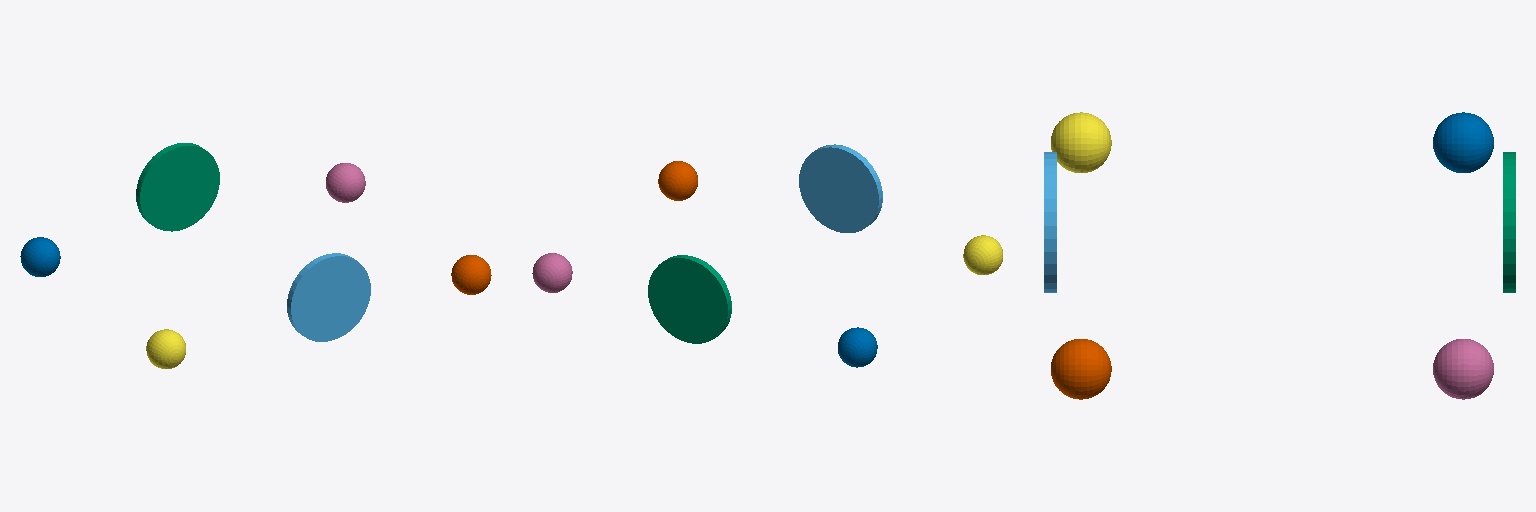
robot.urdf — guiabot:
<?xml version="1.0"?>
<robot name="guiabot" 
  xmlns:xacro="http://ros.org/wiki/xacro">


<gazebo>
  <plugin name="gazebo_ros_control" filename="libgazebo_ros_control.so">
    <robotNamespace>/guiabot</robotNamespace>
  </plugin>
</gazebo>


<link name="base_link" >

    <visual>  
      <origin xyz="0 0 0.024" rpy="0 0 0"/>
      <geometry>
        <mesh filename="package://guiabot_description/meshes/guaibot.dae" scale="1 1 1"/>
      </geometry>
    </visual>
    <collision>
      <geometry>
        <mesh filename="package://guiabot_description/meshes/guaibot.dae" scale="1 1 1"/>
      </geometry>
    </collision>
  </link>


<link name="left_diff_wheel">
    <inertial>
      <mass value="50"/>
      <!--origin xyz="0 0 -0.0525" rpy="0 0 0"/-->
      <origin rpy="0 0 0" xyz="0 0 0"/>
      <inertia ixx="1" ixy="0" ixz="0" iyy="1" iyz="0" izz="1"/>
    </inertial>
    <visual>
      <origin xyz="0 0 0" rpy="0 0 0"/>
      <geometry>
        <cylinder length="0.008" radius="0.046"/>
      </geometry>
    </visual>
    <collision>
      <origin xyz="0 0 0" rpy="0 0 0"/>
      <geometry>
        <cylinder length="0.008" radius="0.046"/>
      </geometry>
    </collision>
  </link>
 

  <joint name="left_diff_wheel_base"  type="continuous">
    <axis xyz="0 0 -1"/>
    <parent link="base_link"/>
    <child link="left_diff_wheel"/>
    <origin xyz=".295 .095  0.024" rpy="1.5708 0 0"/>
  </joint>
  <gazebo reference="left_diff_wheel">
    <material>Gazebo/Black</material>
    <turnGravityOff>false</turnGravityOff>
  </gazebo>

  <link name="right_diff_wheel">
    <inertial>
      <mass value="50"/>
      <!--origin xyz="0 0 -0.0525" rpy="0 0 0"/-->
      <origin rpy="0 0 0" xyz="0 0 0.0"/>
      <inertia ixx="1" ixy="0" ixz="0" iyy="1" iyz="0" izz="1"/>
    </inertial>
    <visual>
      <origin xyz="0 0 0" rpy="0 0 0"/>
      <geometry>
        <cylinder length="0.008" radius="0.046"/>
      </geometry>
    </visual>
    <collision>
      <origin xyz="0 0 0" rpy="0 0 0"/>
      <geometry>
        <cylinder length="0.008" radius="0.046"/>
      </geometry>
    </collision>
  </link>
  
  <joint name="right_diff_wheel_base"  type="continuous">
    <axis xyz="0 0 -1"/>
   <parent link="base_link"/>
    <child link="right_diff_wheel"/>
    <origin xyz=".295 .395  0.024" rpy="-1.5708 0 0"/>
  </joint>

    <gazebo reference="right_diff_wheel">
    <material>Gazebo/Black</material>
    <turnGravityOff>false</turnGravityOff>
  </gazebo>

  <link name="stabilising_wheel_1">
    <inertial>
      <mass value="1"/>
      <!--origin xyz="0 0 -0.0525" rpy="0 0 0"/-->
      <origin rpy="0 0 0" xyz="0 0 0.0"/>
      <inertia ixx="1" ixy="0" ixz="0" iyy="1" iyz="0" izz="1"/>
    </inertial>
    <visual>
      <origin xyz="0 0 0" rpy="0 0 0"/>
      <geometry>
        <sphere radius="0.020"/>
      </geometry>
    </visual>
    <collision>
      <origin xyz="0 0 0" rpy="0 0 0"/>
      <geometry>
        <sphere radius="0.020"/>
      </geometry>
    </collision>
  </link>
  
  <joint name="stabilising_wheel_base_1" type="continuous">
    <parent link="base_link"/>
    <child link="stabilising_wheel_1"/>
    <origin xyz="0.120 .115 0" rpy="-1.5708 0 0"/>
  </joint>

  <gazebo reference="stabilising_wheel_1">
    <material>Gazebo/Black</material>
    <turnGravityOff>false</turnGravityOff>
  </gazebo>

  <link name="stabilising_wheel_2">
    <inertial>
      <mass value="1"/>
      <!--origin xyz="0 0 -0.0525" rpy="0 0 0"/-->
      <origin rpy="0 0 0" xyz="0 0 0.0"/>
      <inertia ixx="1" ixy="0" ixz="0" iyy="1" iyz="0" izz="1"/>
    </inertial>
    <visual>
      <origin xyz="0 0 0" rpy="0 0 0"/>
      <geometry>
        <sphere radius="0.020"/>
      </geometry>
    </visual>
    <collision>
      <origin xyz="0 0 0" rpy="0 0 0"/>
      <geometry>
        <sphere radius="0.020"/>
      </geometry>
    </collision>
  </link>
  
  <joint name="stabilising_wheel_base_2" type="continuous">
    <axis xyz="1 1 1"/>
    <parent link="base_link"/>
    <child link="stabilising_wheel_2"/>
    <origin xyz="0.120 .365 0" rpy="-1.5708 0 0"/>
  </joint>

  <gazebo reference="stabilising_wheel_2">
    <material>Gazebo/Black</material>
    <turnGravityOff>false</turnGravityOff>
  </gazebo>

  <link name="stabilising_wheel_3">
    <inertial>
      <mass value="1"/>
      <!--origin xyz="0 0 -0.0525" rpy="0 0 0"/-->
      <origin rpy="0 0 0" xyz="0 0 0.0"/>
      <inertia ixx="1" ixy="0" ixz="0" iyy="1" iyz="0" izz="1"/>
    </inertial>
    <visual>
      <origin xyz="0 0 0" rpy="0 0 0"/>
      <geometry>
       <sphere radius="0.020"/>
      </geometry>
    </visual>
    <collision>
      <origin xyz="0 0 0" rpy="0 0 0"/>
      <geometry>
       <sphere radius="0.020"/>
      </geometry>
    </collision>
  </link>
  
  <joint name="stabilising_wheel_base_3" type="continuous">
    <axis xyz="1 1 1"/>
    <parent link="base_link"/>
    <child link="stabilising_wheel_3"/>
    <origin xyz="0.470 .115 0" rpy="-1.5708 0 0"/>
  </joint>

  <gazebo reference="stabilising_wheel_3">
    <material>Gazebo/Black</material>
    <turnGravityOff>false</turnGravityOff>
  </gazebo>

  <link name="stabilising_wheel_4">
    <inertial>
      <mass value="1"/>
      <!--origin xyz="0 0 -0.0525" rpy="0 0 0"/-->
      <origin rpy="0 0 0" xyz="0 0 0.0"/>
      <inertia ixx="1" ixy="0" ixz="0" iyy="1" iyz="0" izz="1"/>
    </inertial>
    <visual>
      <origin xyz="0 0 0" rpy="0 0 0"/>
      <geometry>
        <sphere radius="0.020"/>
      </geometry>
    </visual>
    <collision>
      <origin xyz="0 0 0" rpy="0 0 0"/>
      <geometry>
        <sphere radius="0.020"/>
      </geometry>
    </collision>
  </link>
  
  <joint name="stabilising_wheel_base_4" type="continuous">
    <axis xyz="1 1 1"/>
    <parent link="base_link"/>
    <child link="stabilising_wheel_4"/>
    <origin xyz="0.470 .365 0" rpy="-1.5708 0 0"/>
  </joint>

  <gazebo reference="stabilising_wheel_4">
    <material>Gazebo/Black</material>
    <turnGravityOff>false</turnGravityOff>
  </gazebo>



  <gazebo>
     <plugin name="differential_drive_controller" filename="libgazebo_ros_diff_drive.so">
            <rosDebugLevel>Debug</rosDebugLevel>
            <robotNamespace></robotNamespace>
            <publishWheelTF>false</publishWheelTF>
            <publishWheelJointState>true</publishWheelJointState>
            <alwaysOn>true</alwaysOn>
            <leftJoint>left_diff_wheel_base</leftJoint>
            <rightJoint>right_diff_wheel_base</rightJoint>
            <wheelSeparation>0.3</wheelSeparation>
            <wheelDiameter>0.092</wheelDiameter>
            <wheelTorque>200</wheelTorque>
	    <torque>200</torque>
            <wheelAcceleration>200</wheelAcceleration>
            <commandTopic>cmd_vel</commandTopic>
            <odometryTopic>odom</odometryTopic>
            <odometryFrame>odom</odometryFrame>
            <odometrySource>world</odometrySource>
            <robotBaseFrame>base_link</robotBaseFrame>
            <updateRate>10.0</updateRate>
        </plugin>
  </gazebo>

<!-- SENSOR -->
<gazebo reference="camera_link">
    <sensor type="depth" name="openni_camera_camera">       
        <always_on>1</always_on>
        <visualize>true</visualize>             
        <camera>
            <horizontal_fov>1.047</horizontal_fov>  
            <image>
                <width>640</width>
                <height>480</height>
                <format>R8G8B8</format>
            </image>
            <depth_camera>

            </depth_camera>
            <clip>
                <near>0.1</near>
                <far>100</far>
            </clip>
        </camera>
        <plugin name="camera_controller" filename="libgazebo_ros_openni_kinect.so">
            <alwaysOn>true</alwaysOn>
                <updateRate>50.0</updateRate>
                <cameraName>camera</cameraName>
                <frameName>openni_camera_link</frameName>                   
            <imageTopicName>rgb/image_raw</imageTopicName>
            <depthImageTopicName>depth/image_raw</depthImageTopicName>
            <pointCloudTopicName>depth/points</pointCloudTopicName>
            <cameraInfoTopicName>rgb/camera_info</cameraInfoTopicName>              
            <depthImageCameraInfoTopicName>depth/camera_info</depthImageCameraInfoTopicName>            
            <pointCloudCutoff>0.4</pointCloudCutoff>                
                <hackBaseline>0.07</hackBaseline>
                <distortionK1>0.0</distortionK1>
                <distortionK2>0.0</distortionK2>
                <distortionK3>0.0</distortionK3>
                <distortionT1>0.0</distortionT1>
                <distortionT2>0.0</distortionT2>
            <CxPrime>0.0</CxPrime>
            <Cx>0.0</Cx>
            <Cy>0.0</Cy>
            <focalLength>0.0</focalLength>
            </plugin>
    </sensor>
</gazebo>

<joint name="base_camera_joint" type="fixed">
			<origin xyz="0.37 0.25 1.37" rpy="0 0 0" />
			<parent link="base_link" />
			<child link="camera_link" />
		</joint>

		<link name="camera_link">
			<inertial>
				<mass value="0.01" />
				<origin xyz="0 0 0" />
				<inertia ixx="0.001" ixy="0.0" ixz="0.0" iyy="0.001" iyz="0.0" izz="0.001" />
			</inertial>

			<visual>
				<origin xyz=" 0 0 0 " rpy="0 0 0" />
				<geometry>
					<mesh filename="package://guiabot_description/meshes/kinect.dae"/>
				</geometry>
			</visual>

			<collision>
				<origin xyz="0.0 0.0 0.0" rpy="0 0 0" />
				<geometry>
					<box size="0.0730 .2760 0.0720"/>
				</geometry>
			</collision>
		</link>

		<joint name="camera_depth_joint" type="fixed">
			<origin xyz="0 0.018 0" rpy="0 0 0" />
			<parent link="camera_link" />
			<child link="camera_depth_frame" />
		</joint>

		<link name="camera_depth_frame">
			<inertial>
				<mass value="0.01" />
				<origin xyz="0 0 0" />
				<inertia ixx="0.001" ixy="0.0" ixz="0.0" iyy="0.001" iyz="0.0" izz="0.001" />
			</inertial>
		</link>

		<joint name="camera_depth_optical_joint" type="fixed">
			<origin xyz="0 0 0" rpy="1.5 0 -1.5" />
			<parent link="camera_depth_frame" />
			<child link="camera_depth_optical_frame" />
		</joint>

		<link name="camera_depth_optical_frame">
			<inertial>
				<mass value="0.001" />
				<origin xyz="0 0 0" />
				<inertia ixx="0.0001" ixy="0.0" ixz="0.0" iyy="0.0001" iyz="0.0" izz="0.0001" />
			</inertial>
		</link>

		<joint name="camera_rgb_joint" type="fixed">
			<origin xyz="0 -0.005 0" rpy="0 0 0" />
			<parent link="camera_link" />
			<child link="camera_rgb_frame" />
		</joint>

		<link name="camera_rgb_frame">
			<inertial>
				<mass value="0.001" />
				<origin xyz="0 0 0" />
				<inertia ixx="0.0001" ixy="0.0" ixz="0.0" iyy="0.0001" iyz="0.0" izz="0.0001" />
			</inertial>
		</link>

		<joint name="camera_rgb_optical_joint" type="fixed">
			<origin xyz="0 0 0" rpy="1.5 0 -1.5" />
			<parent link="camera_rgb_frame" />
			<child link="camera_rgb_optical_frame" />
		</joint>

		<link name="camera_rgb_optical_frame">
			<inertial>
				<mass value="0.001" />
				<origin xyz="0 0 0" />
				<inertia ixx="0.0001" ixy="0.0" ixz="0.0" iyy="0.0001" iyz="0.0" izz="0.0001" />
			</inertial>
		</link>

</robot>

--- Render facts (derived) ---
Views: 3 orthographic renders of the robot side by side, from view 1: azimuth 30°, elevation 25°; view 2: azimuth 150°, elevation 25°; view 3: azimuth 270°, elevation 25°.
Robot: guiabot — 12 links, 11 joints (6 continuous, 5 fixed); root link base_link; default pose: all joints at 0.
Visible links, largest first — view 1: left_diff_wheel, right_diff_wheel, stabilising_wheel_4, stabilising_wheel_3, stabilising_wheel_2, stabilising_wheel_1; view 2: right_diff_wheel, left_diff_wheel, stabilising_wheel_1, stabilising_wheel_2, stabilising_wheel_4, stabilising_wheel_3; view 3: stabilising_wheel_2, stabilising_wheel_4, stabilising_wheel_3, stabilising_wheel_1, left_diff_wheel, right_diff_wheel.
Link boxes in pixels (left/top/right/bottom): left_diff_wheel: left=287, top=253, right=370, bottom=341; right_diff_wheel: left=136, top=143, right=219, bottom=231; stabilising_wheel_4: left=326, top=163, right=365, bottom=202; stabilising_wheel_3: left=451, top=255, right=491, bottom=294; stabilising_wheel_2: left=20, top=237, right=60, bottom=276; stabilising_wheel_1: left=146, top=329, right=185, bottom=368; right_diff_wheel: left=648, top=255, right=731, bottom=343; left_diff_wheel: left=799, top=144, right=882, bottom=232; stabilising_wheel_1: left=963, top=235, right=1002, bottom=274; stabilising_wheel_2: left=838, top=327, right=877, bottom=367; stabilising_wheel_4: left=532, top=253, right=572, bottom=292; stabilising_wheel_3: left=658, top=161, right=697, bottom=200; stabilising_wheel_2: left=1433, top=112, right=1493, bottom=172; stabilising_wheel_4: left=1433, top=339, right=1493, bottom=399; stabilising_wheel_3: left=1051, top=339, right=1111, bottom=399; stabilising_wheel_1: left=1051, top=112, right=1111, bottom=172; left_diff_wheel: left=1044, top=152, right=1056, bottom=292; right_diff_wheel: left=1503, top=152, right=1515, bottom=292.
Bounding box of the posed robot: 0.39 × 0.308 × 0.092 m (x, y, z).
Meshes: 2 distinct files referenced, 0 mesh visuals loaded (none loaded); not drawn: 2 (reference not matched to a file when rendering).